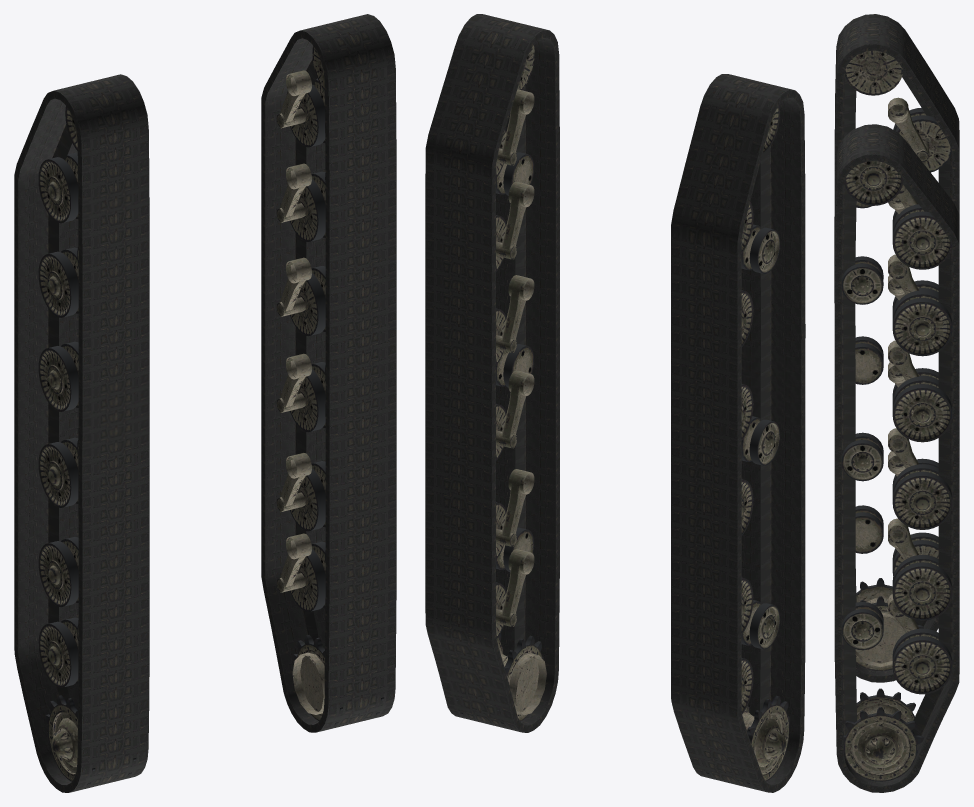
File: Chassis.glb
3 views of the same model, side by side, from view 1: azimuth 30°, elevation 25°; view 2: azimuth 150°, elevation 25°; view 3: azimuth 270°, elevation 25° (orthographic). The views are drawn at different scales.
Parts seen in each view (by area): view 1: set_0_group_0, set_1_group_0, set_3_group_0, set_2_group_0; view 2: set_0_group_0, set_1_group_0, set_3_group_0, set_2_group_0; view 3: set_3_group_0, set_1_group_0, set_2_group_0, set_0_group_0.
Boxes of the visible parts, bbox=[...] form: set_0_group_0: bbox=[14, 74, 149, 792]; set_1_group_0: bbox=[261, 14, 396, 732]; set_3_group_0: bbox=[276, 46, 383, 724]; set_2_group_0: bbox=[38, 106, 136, 784]; set_0_group_0: bbox=[671, 74, 805, 792]; set_1_group_0: bbox=[425, 14, 559, 732]; set_3_group_0: bbox=[456, 45, 546, 724]; set_2_group_0: bbox=[706, 105, 789, 784]; set_3_group_0: bbox=[842, 161, 952, 781]; set_1_group_0: bbox=[834, 124, 959, 792]; set_2_group_0: bbox=[844, 50, 951, 671]; set_0_group_0: bbox=[834, 14, 959, 682].
Bounding box in the file's own units: 3.12 × 6.47 × 1.15.
4 materials, 4 textured.
